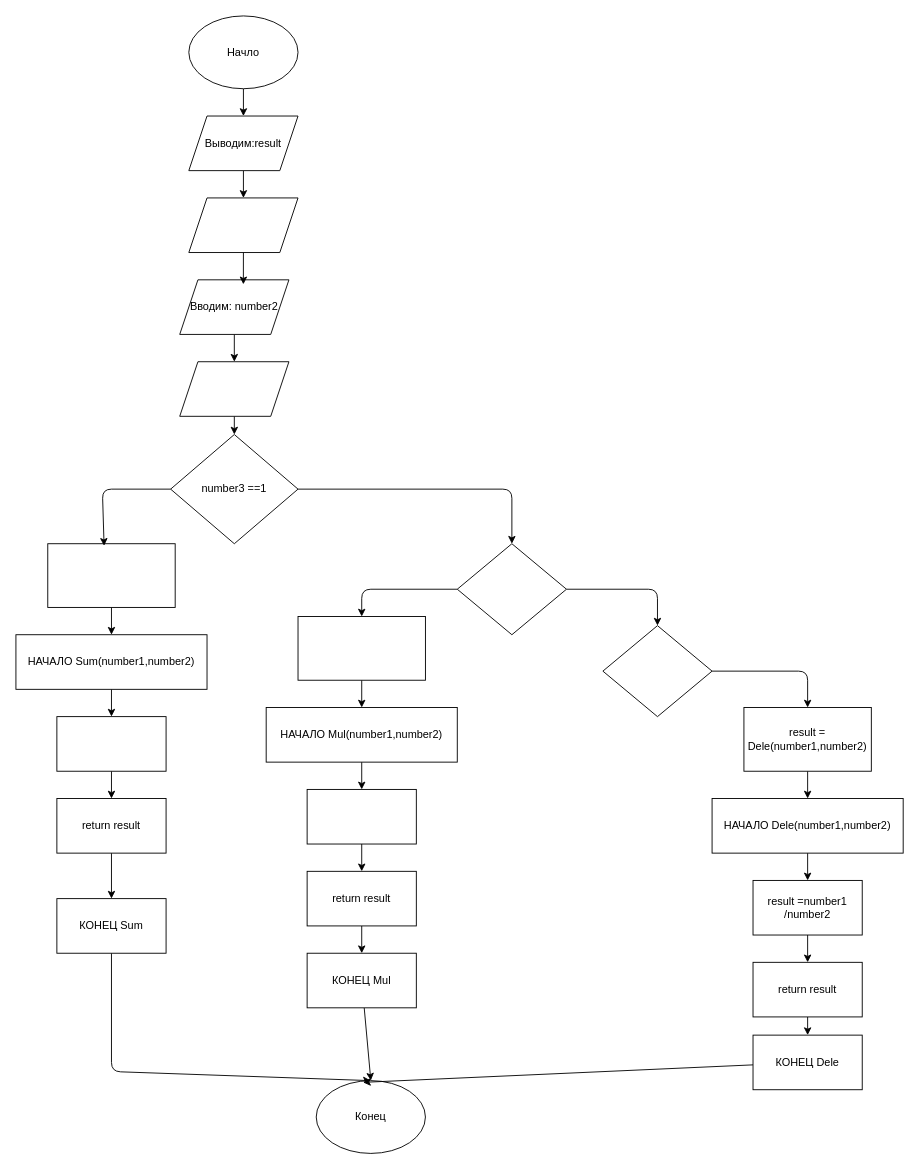
This 919x1169 diagram has some shape labels left out. Here are the shapes that lost their labels. From the top down, the box of each, then its label:
(188, 197, 298, 253): Вводим: number1
(179, 361, 289, 416): Вводим: number3 номер операции
(47, 543, 175, 607): result = Sum(number1,number2)
(456, 543, 566, 635): number3 ==2
(297, 616, 425, 680): result = Mul (number1,number2)
(602, 625, 712, 717): number3 ==3
(56, 716, 166, 771): result =number1 +number2
(306, 789, 416, 844): result =number1 *number2
